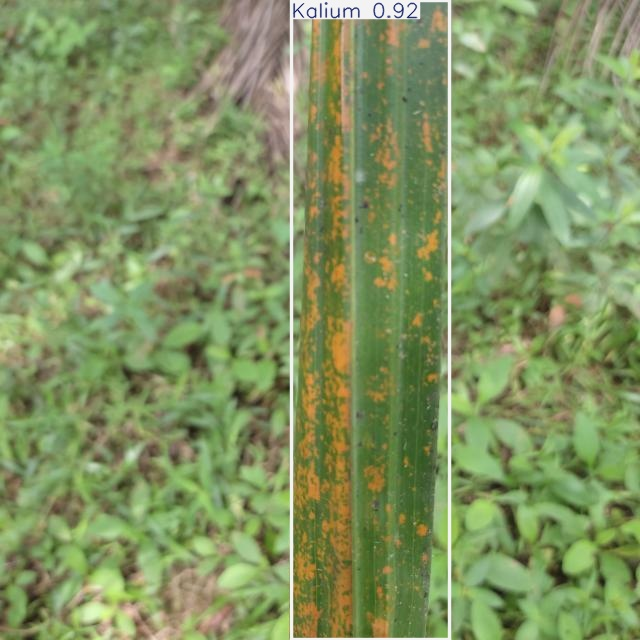Kalium: (291, 0, 450, 640)
